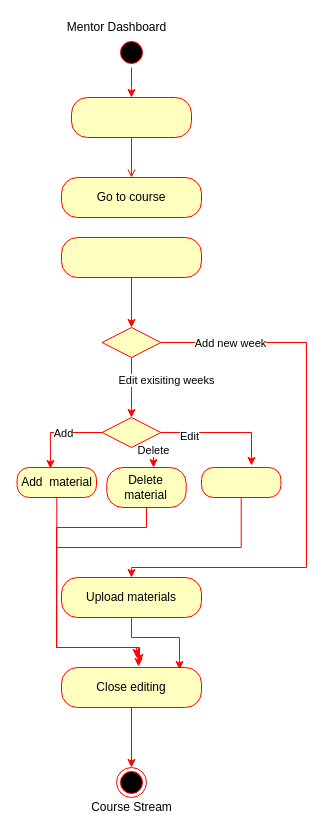
The diagram is 333 pixels wide and 834 high, and some of its shapes have lost their labels. Here are the shapes that lost their labels. From the top down, the centre of each, then its label:
At (x=131, y=117): "Open Current Courses".
At (x=131, y=257): "Choose Edit Activity".
At (x=240, y=482): "Edit settings".
